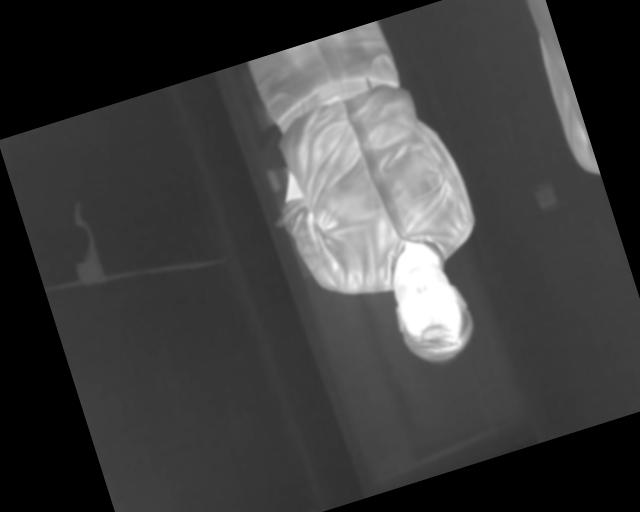face: (377, 243, 483, 374)
